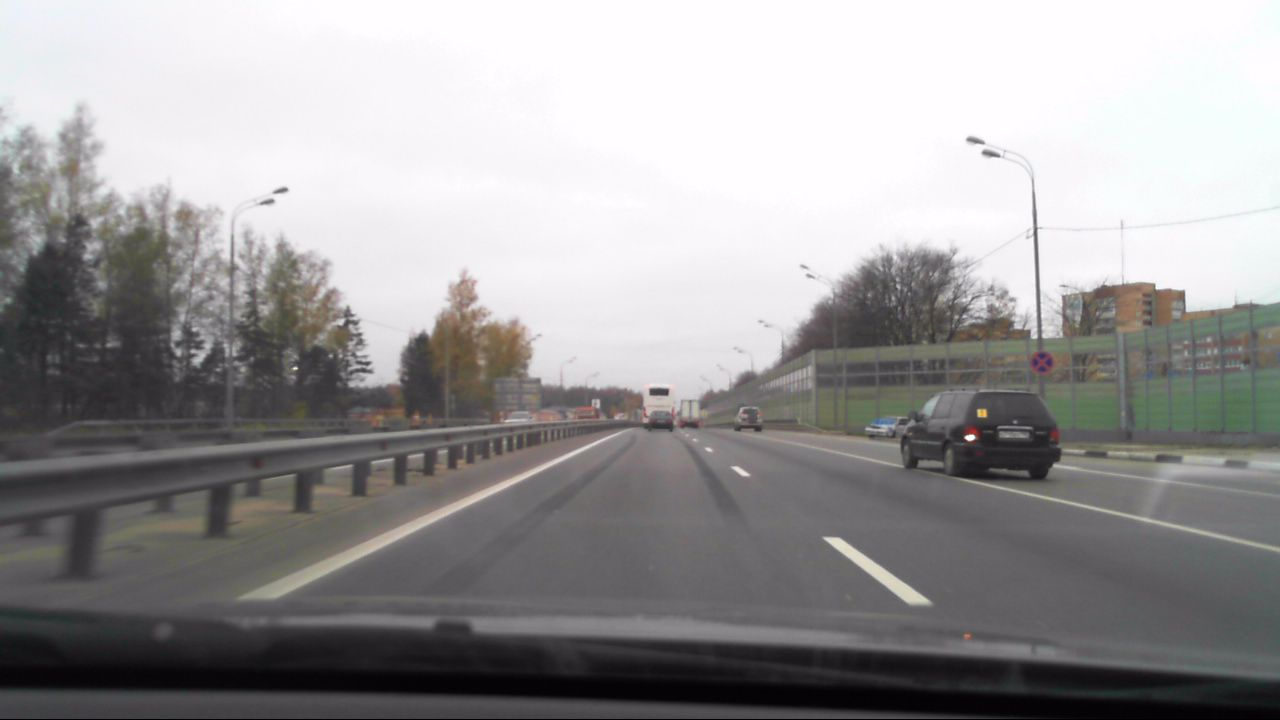No Parking: (1030, 351, 1054, 373)
